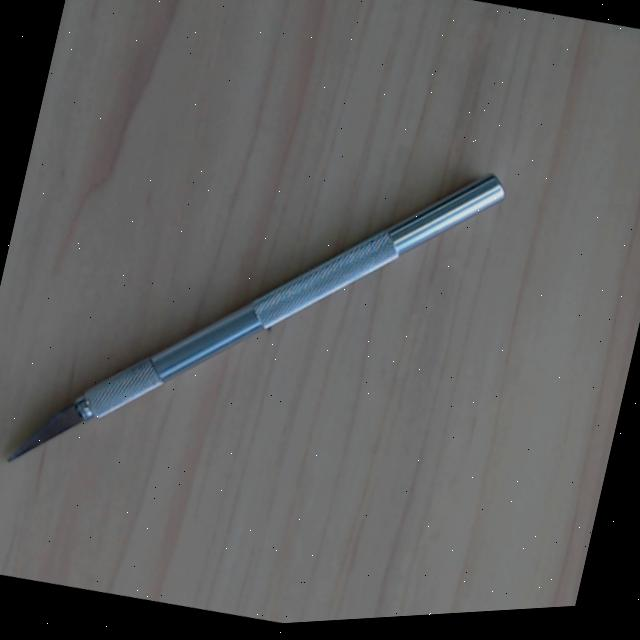Cutter-Kecil: (0, 169, 509, 466)
